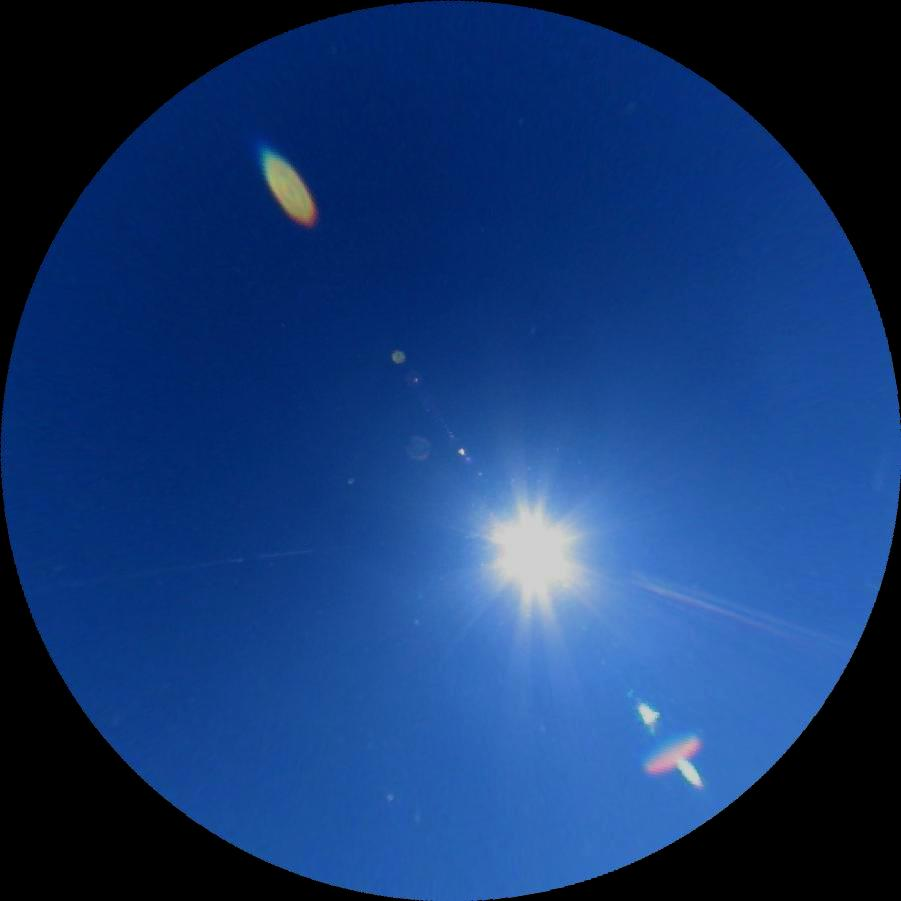contrail young: (868, 460, 893, 493)
parasite: (626, 565, 843, 657), (26, 539, 341, 595)
sun: (470, 489, 594, 614)
